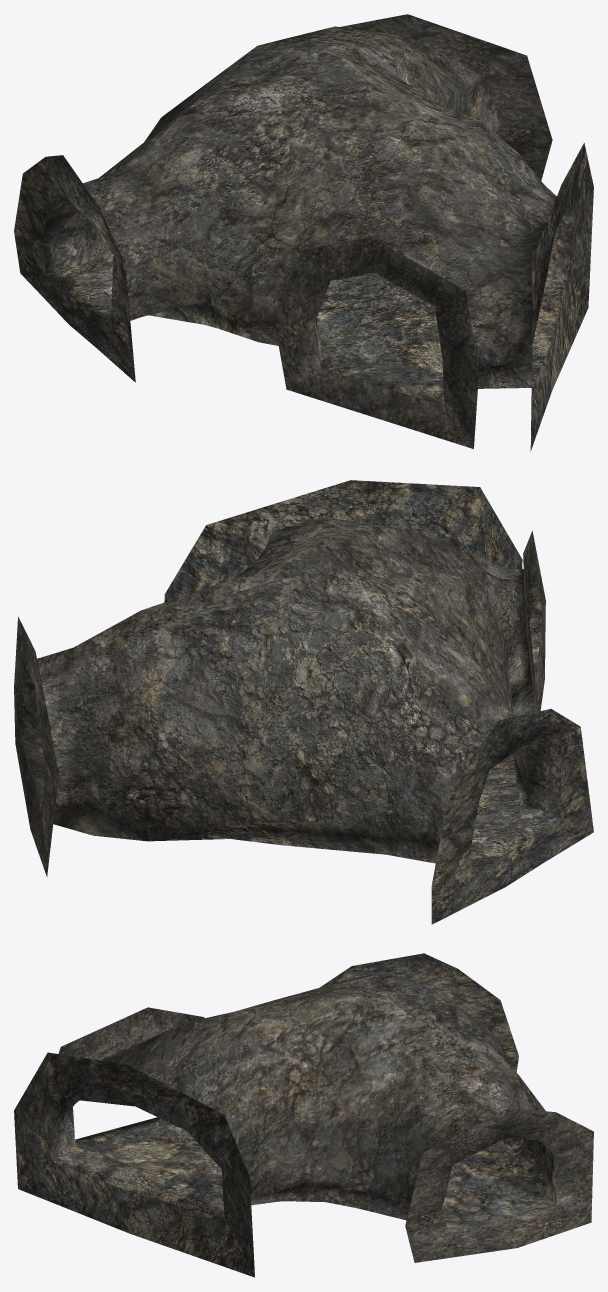
The model's file is Cave30.fbx.
3 renders of one model, top to bottom at view 1: azimuth 30°, elevation 25°; view 2: azimuth 150°, elevation 25°; view 3: azimuth 270°, elevation 25°, orthographic. The views are drawn at different scales.
Visible parts, largest first — view 1: Cave30; view 2: Cave30; view 3: Cave30.
Boxes of the visible parts, <box> form: Cave30: <box>14,14,593,451</box>; Cave30: <box>14,480,593,924</box>; Cave30: <box>14,953,593,1277</box>.
Bounding box in the file's own units: 250 × 122 × 309.
